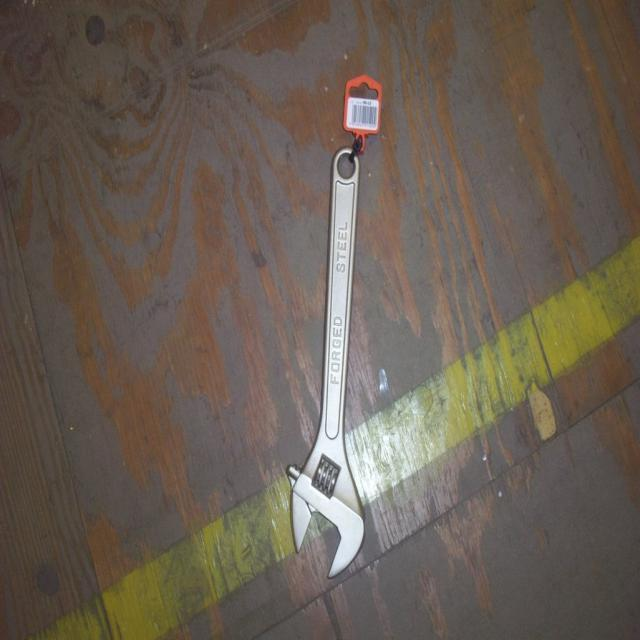wrench: (280, 136, 370, 590)
